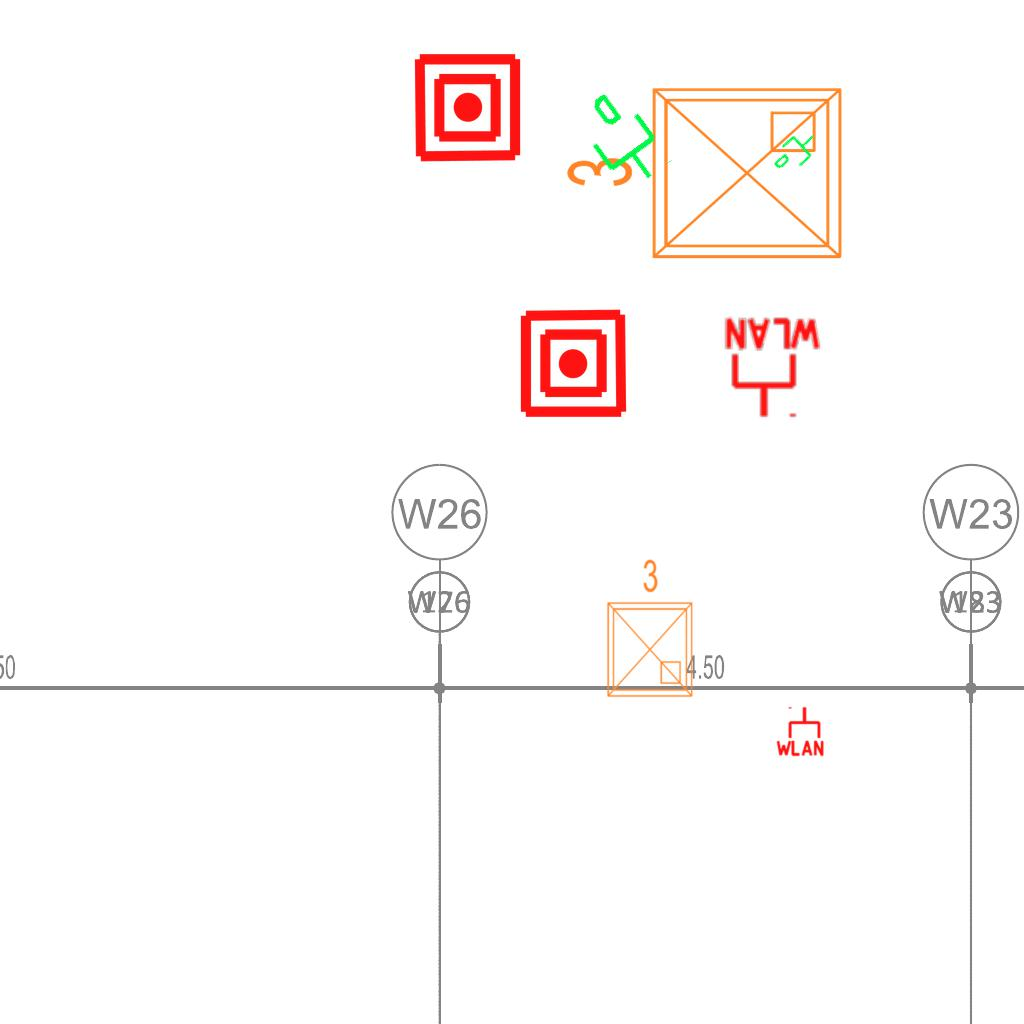Datenanschluss_einfach: (563, 79, 678, 201), (766, 123, 826, 183)
Einbaudownlights_LED_Konferenzraeume: (556, 73, 856, 281), (596, 554, 700, 704)
NAM-Nichtautomatischer_Melder: (517, 307, 630, 420), (411, 51, 524, 164)
WLAN: (721, 316, 825, 421), (774, 705, 826, 757)
